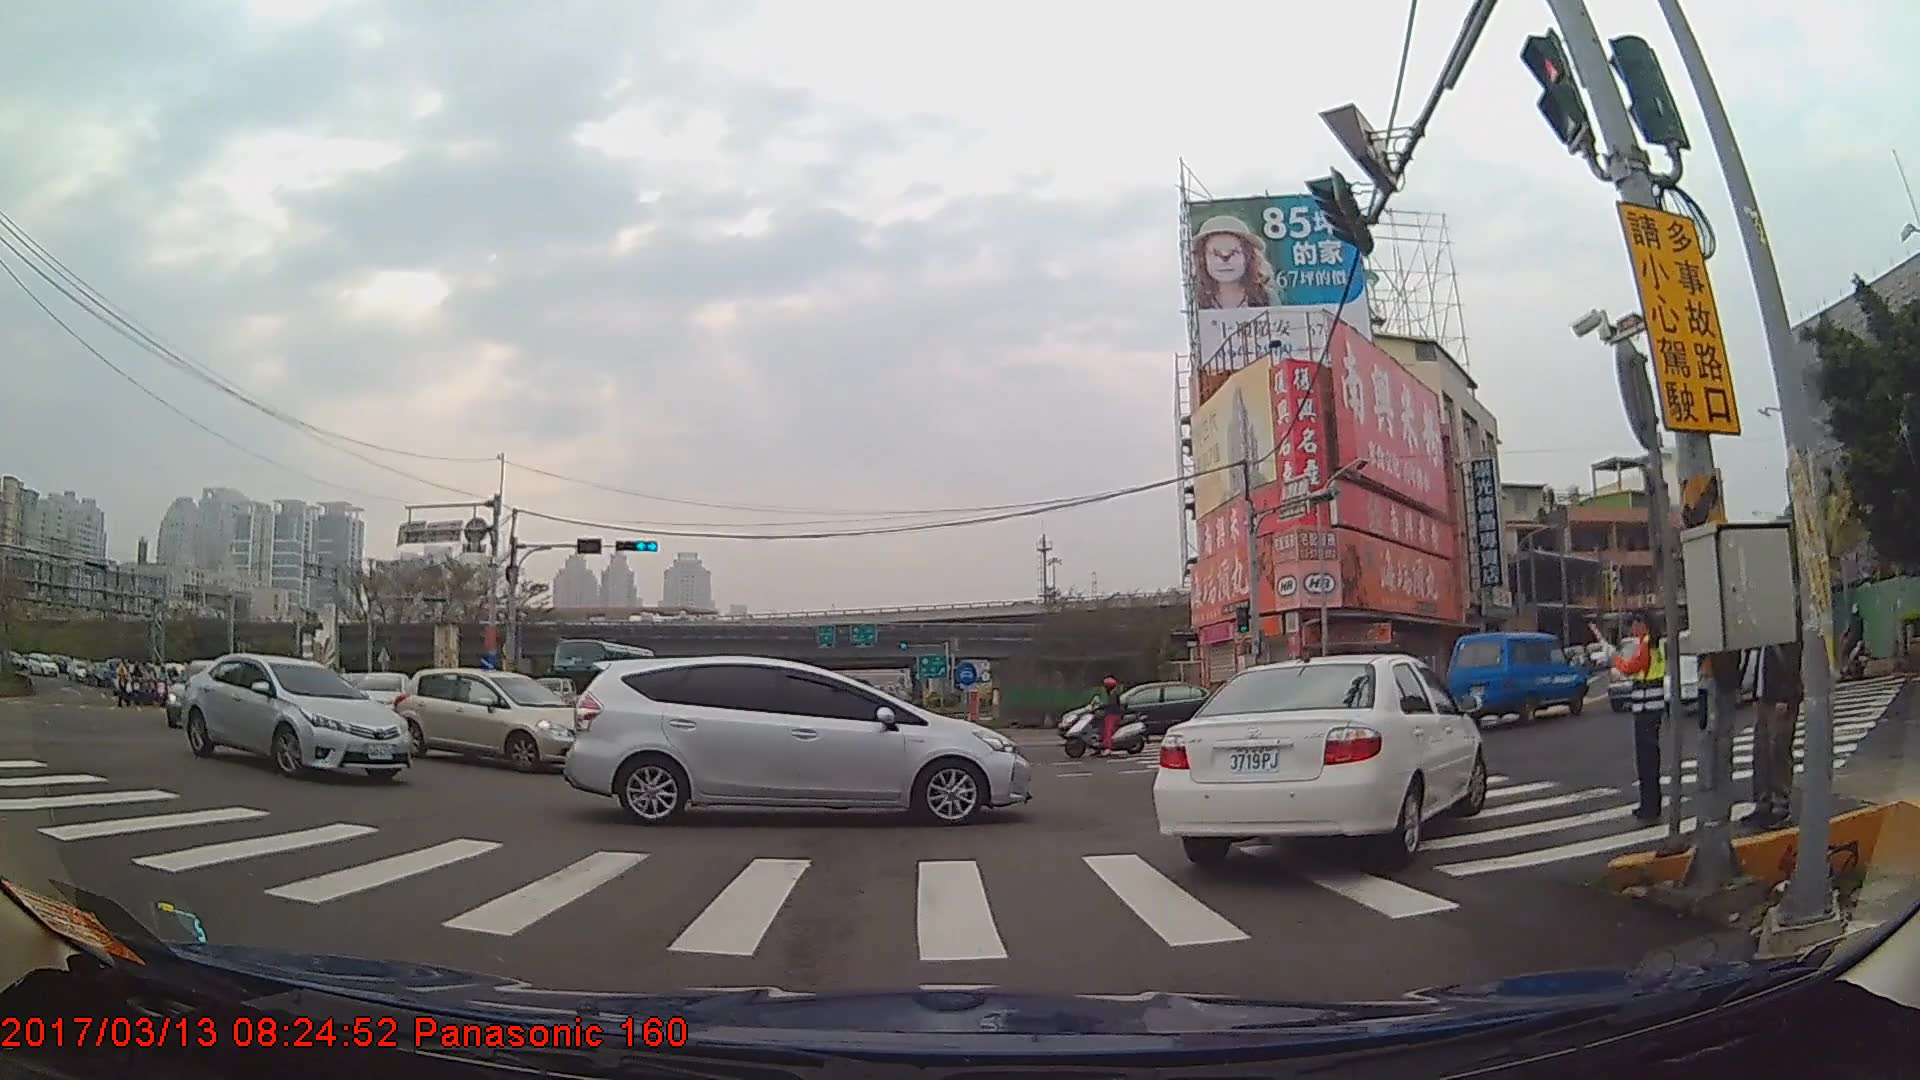pedestrian: (1723, 531, 1813, 840), (1616, 608, 1672, 831)
rider: (1065, 675, 1147, 760), (1833, 602, 1870, 680)
vehicle: (561, 655, 1032, 826), (1153, 649, 1482, 866), (177, 653, 410, 785), (389, 668, 593, 774), (1443, 628, 1588, 724), (1050, 680, 1230, 747)
